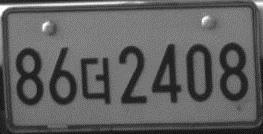0: (185, 43, 213, 101)
2: (118, 45, 148, 104)
4: (150, 42, 184, 104)
6: (48, 46, 77, 107)
8: (218, 41, 248, 102), (14, 47, 45, 106)
더: (78, 56, 112, 105)
